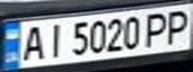0: (121, 12, 145, 51), (87, 17, 109, 54)
2: (106, 15, 127, 53)
5: (66, 18, 90, 56)
A: (15, 23, 48, 62)
I: (42, 20, 69, 60)
P: (139, 9, 172, 47), (160, 7, 193, 45)
